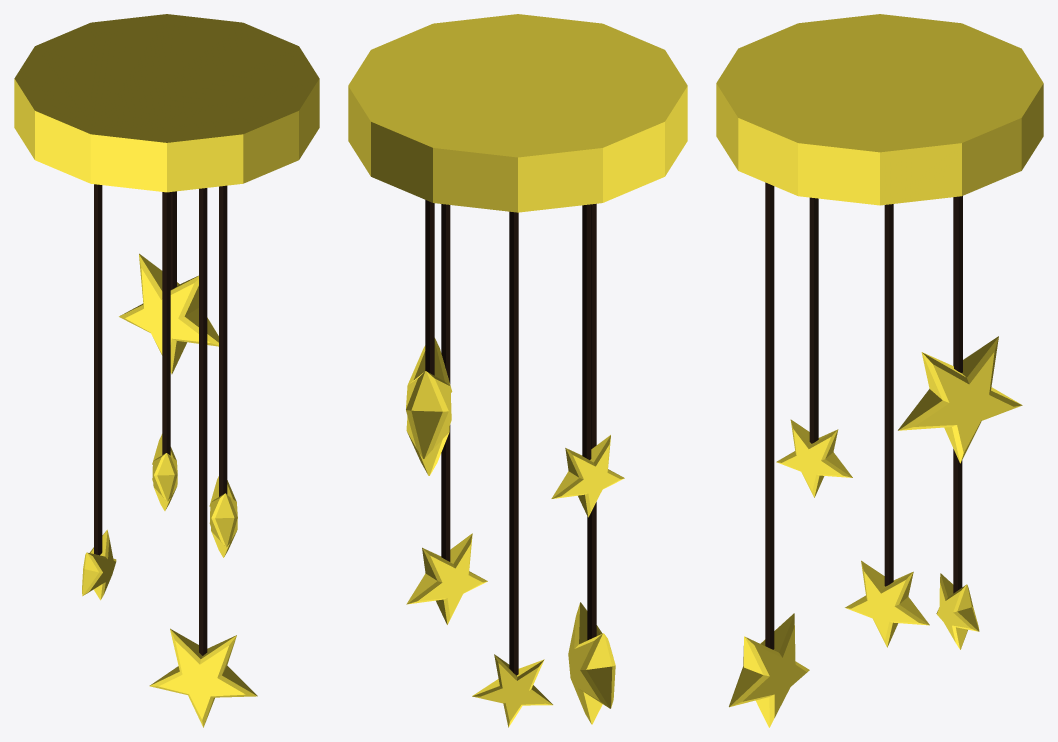
Rendered from Hanging Stars.fbx.
3 renders of one model, left to right at view 1: azimuth 30°, elevation 25°; view 2: azimuth 150°, elevation 25°; view 3: azimuth 270°, elevation 25°, orthographic. The views are drawn at different scales.
Parts seen in each view (by area): view 1: Node 0; view 2: Node 0; view 3: Node 0.
Part boxes in pixels (x1,y1,x2,y2): Node 0: (14,14,319,727); Node 0: (348,14,687,727); Node 0: (716,14,1043,727).
Size of the model in its own units: 0.9492 by 2.09 by 0.9492.
